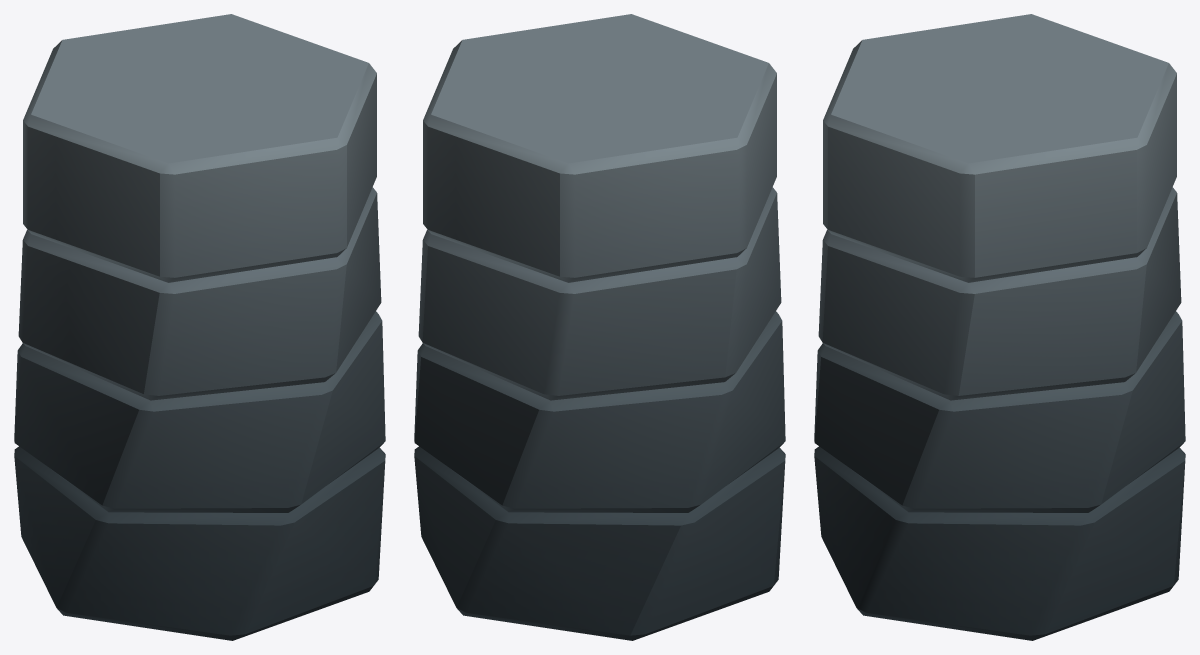
The model's file is Vertical_Hex.fbx.
3 views of the same model, side by side, from view 1: azimuth 30°, elevation 25°; view 2: azimuth 150°, elevation 25°; view 3: azimuth 270°, elevation 25° (orthographic).
Visible parts, largest first — view 1: Vertical Hex; view 2: Vertical Hex; view 3: Vertical Hex.
Part boxes in pixels (box(x1,y1,x2,y2)): Vertical Hex: box(14, 14, 385, 640); Vertical Hex: box(414, 14, 785, 640); Vertical Hex: box(814, 14, 1185, 640).
Size of the model in its own units: 81.81 by 117 by 82.55.
